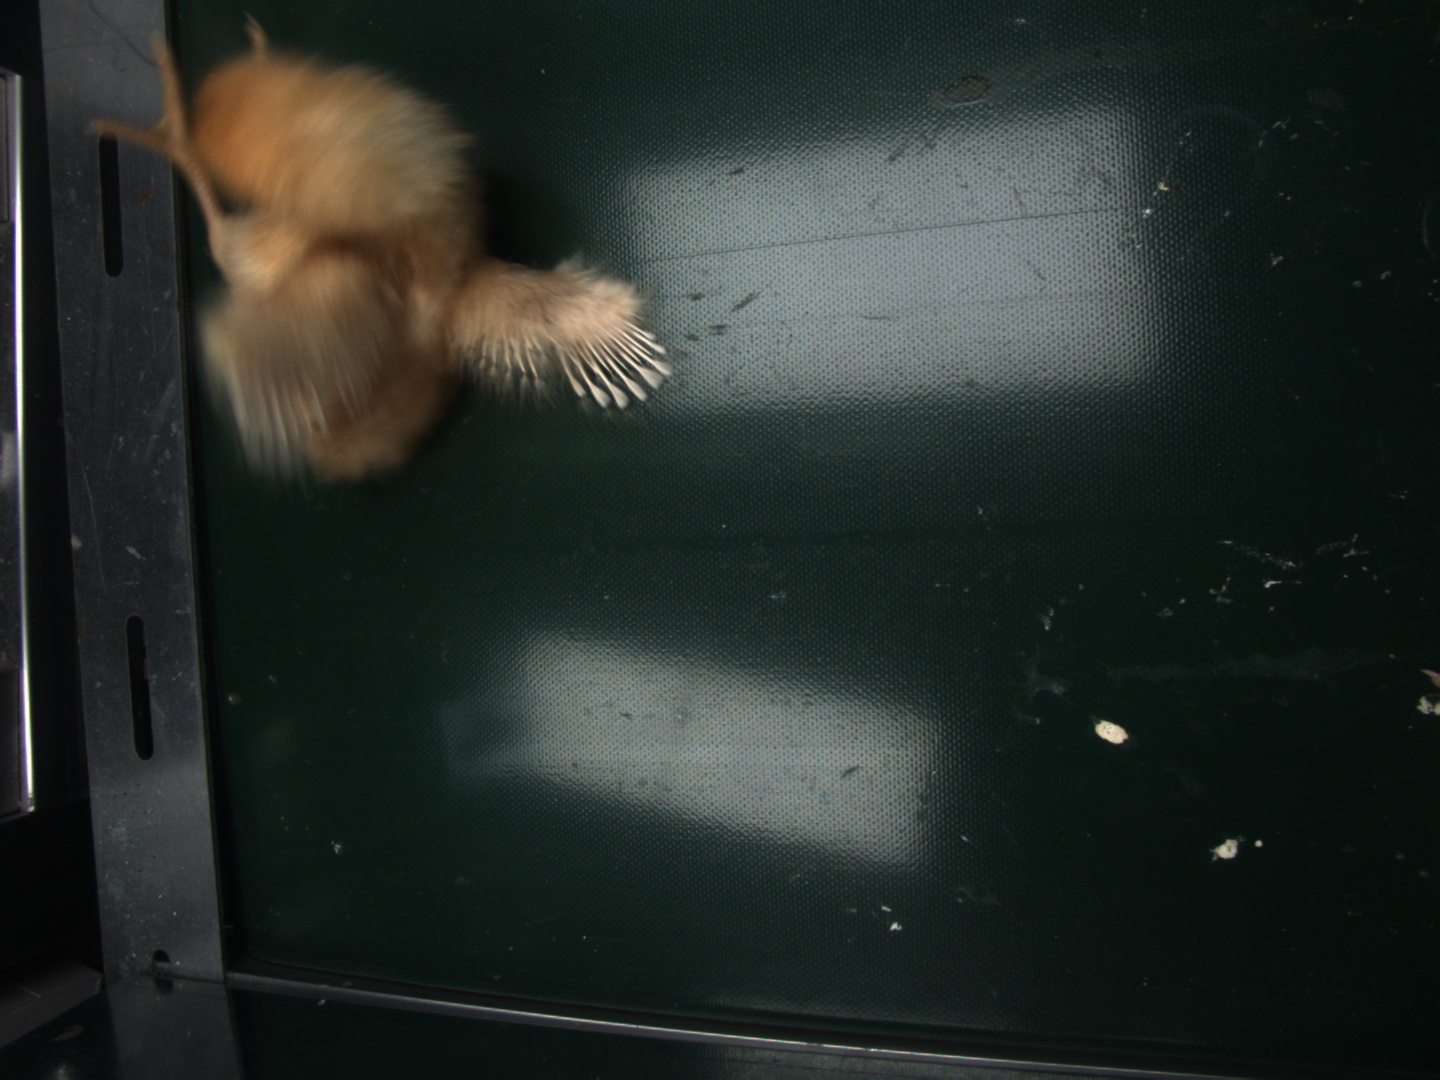female: (567, 319, 668, 406)
